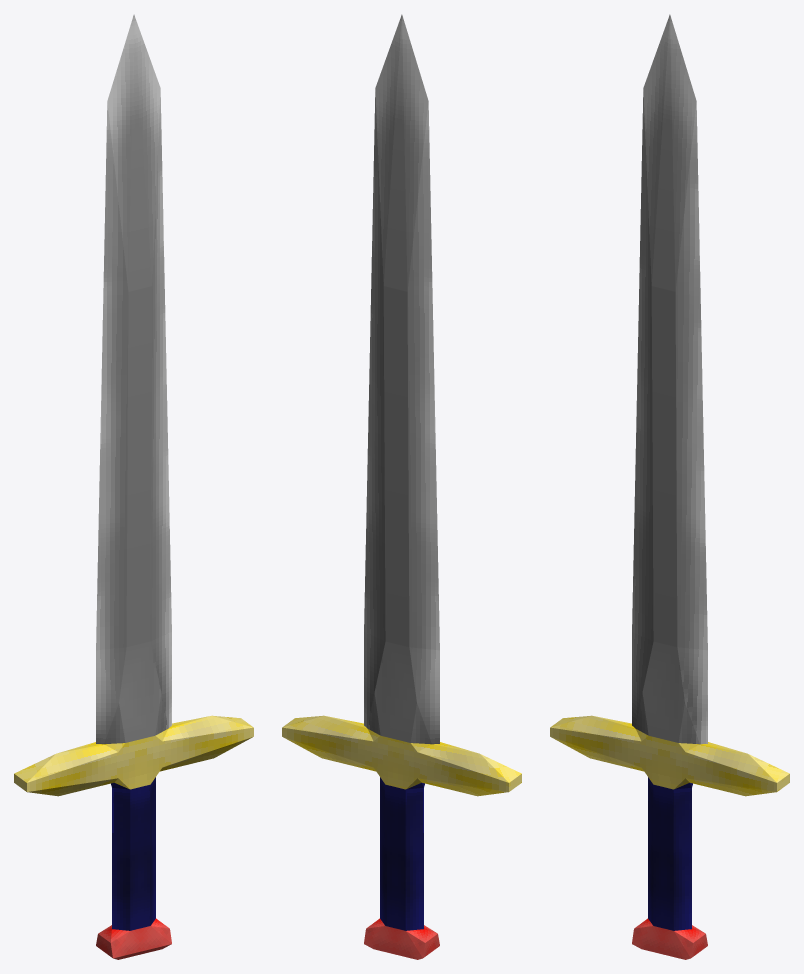
File: sword.glb
The picture shows the model from 3 angles, left to right: view 1: azimuth 30°, elevation 25°; view 2: azimuth 150°, elevation 25°; view 3: azimuth 330°, elevation 25°; orthographic projection.
Parts seen in each view (by area): view 1: Sword; view 2: Sword; view 3: Sword.
Boxes of the visible parts, <box> form: Sword: <box>14,14,253,959</box>; Sword: <box>282,14,521,959</box>; Sword: <box>550,14,789,959</box>.
Bounding box in the file's own units: 0.5077 × 2 × 0.0665.
Materials: 1 (1 with a texture image).
